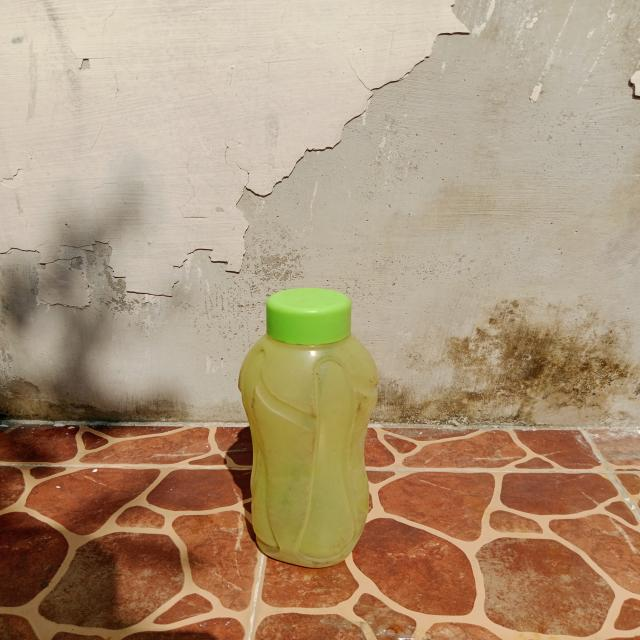botol_minum: (214, 284, 396, 580)
